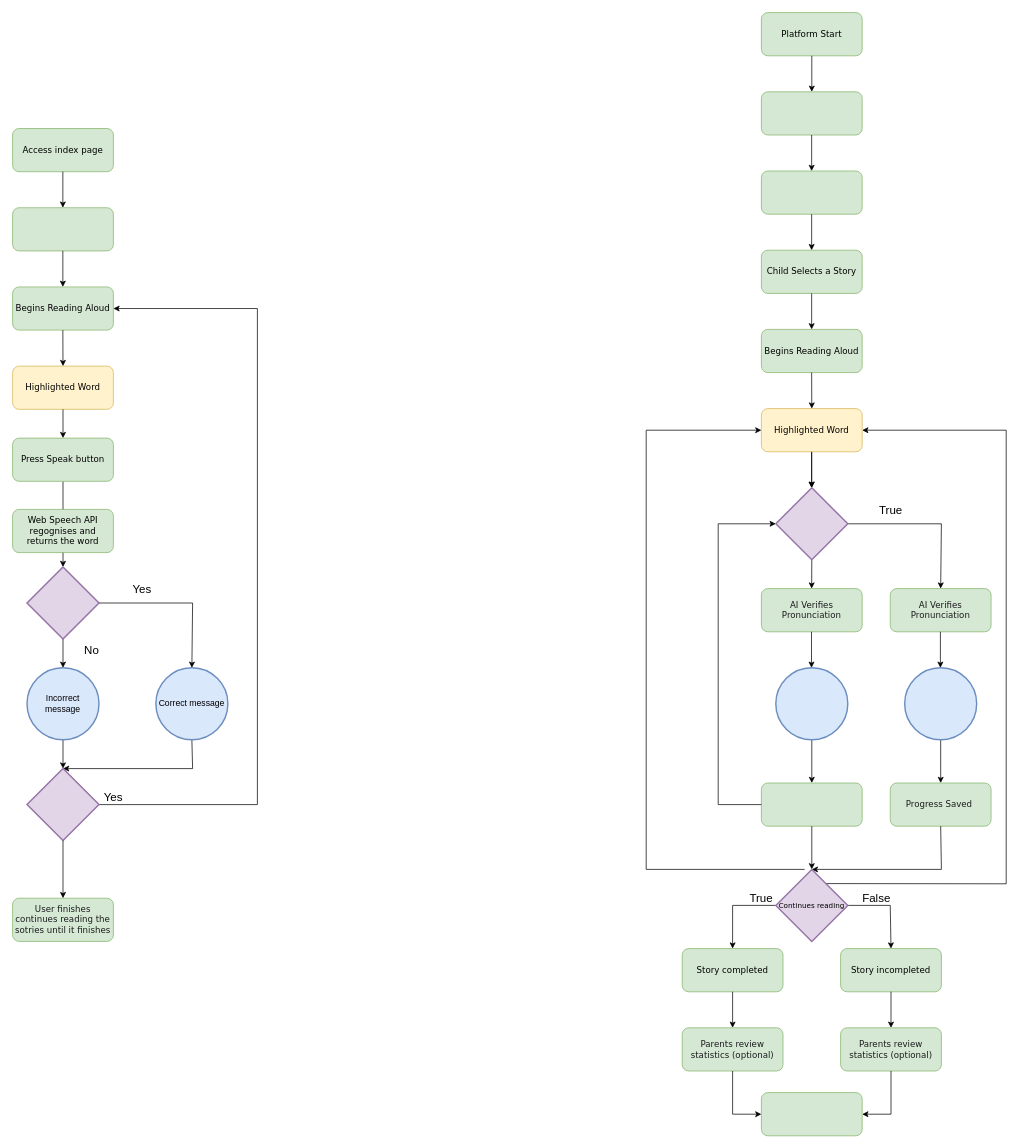
Image size: 1025x1148. Some labels were removed from this diagram. The centre of each missing label's shape, as x and y in pixels:
Are there more higlighted words?: the point at 62,804
Child Pronounces the Word: the point at 811,523
Correct: the point at 940,703
Does the pronounced word matches the actual word?: the point at 62,602
Incorrect: the point at 811,703
Log In or Create Account: the point at 811,192
Progress Saved - Feedback and Retry: the point at 811,804
Select o ther story to read: the point at 811,1114
Select User (Child/Parent): the point at 811,113
Selects a Story: the point at 62,229
